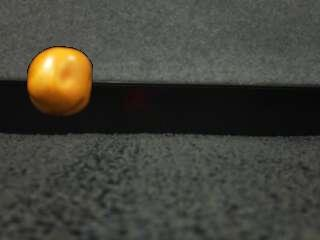Potato: (27, 47, 94, 117)
